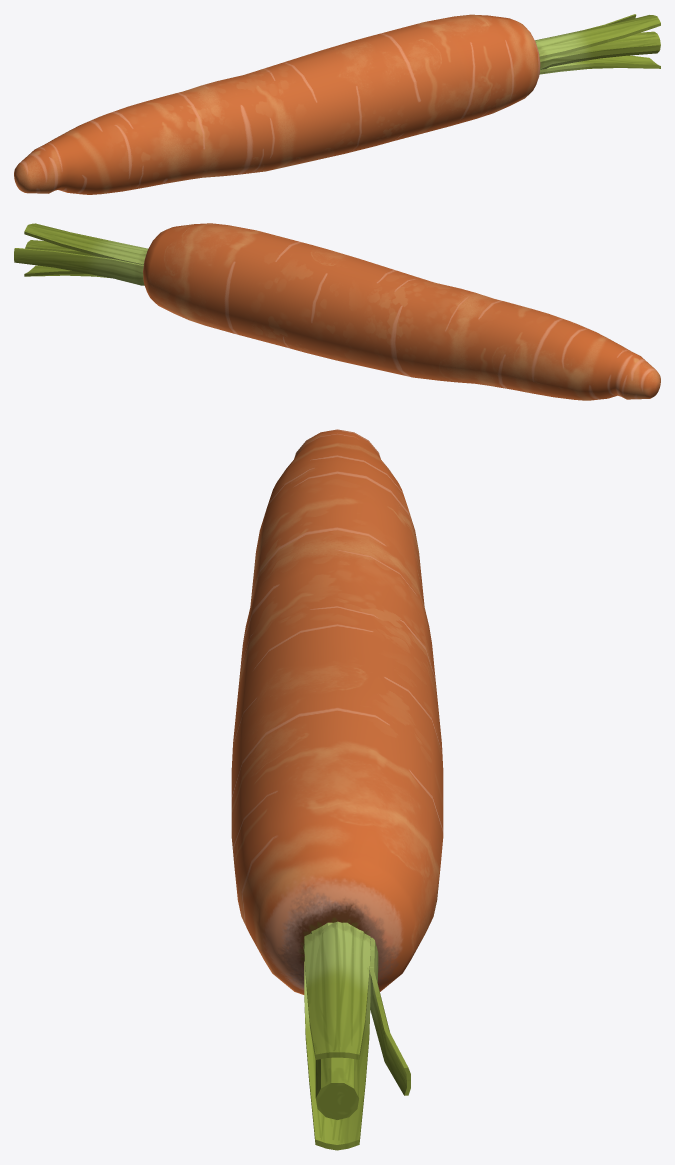
Rendered from Mesh_Kitchen_Carrot.fbx.
3 renders of one model, top to bottom at view 1: azimuth 30°, elevation 25°; view 2: azimuth 150°, elevation 25°; view 3: azimuth 270°, elevation 25°, orthographic. The views are drawn at different scales.
Parts seen in each view (by area): view 1: Mesh_Carrot; view 2: Mesh_Carrot; view 3: Mesh_Carrot.
Boxes of the visible parts, <box> form: Mesh_Carrot: <box>14,14,660,194</box>; Mesh_Carrot: <box>14,223,660,400</box>; Mesh_Carrot: <box>231,429,443,1150</box>.
Bounding box in the file's own units: 132 × 19.49 × 19.19.
1 material, 1 textured.
